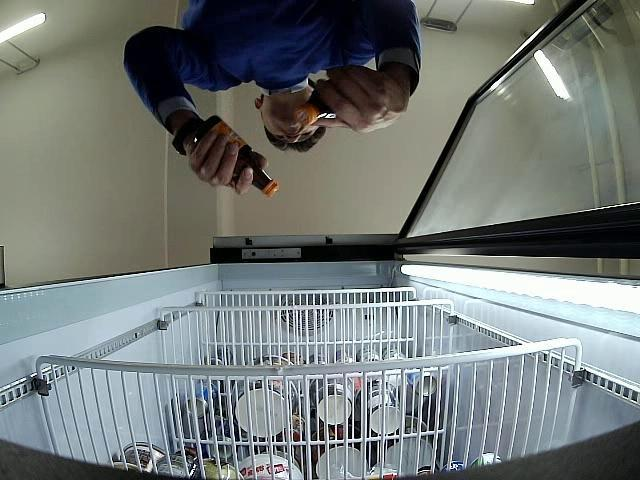17_vita500: (188, 114, 280, 198), (294, 90, 334, 126)
